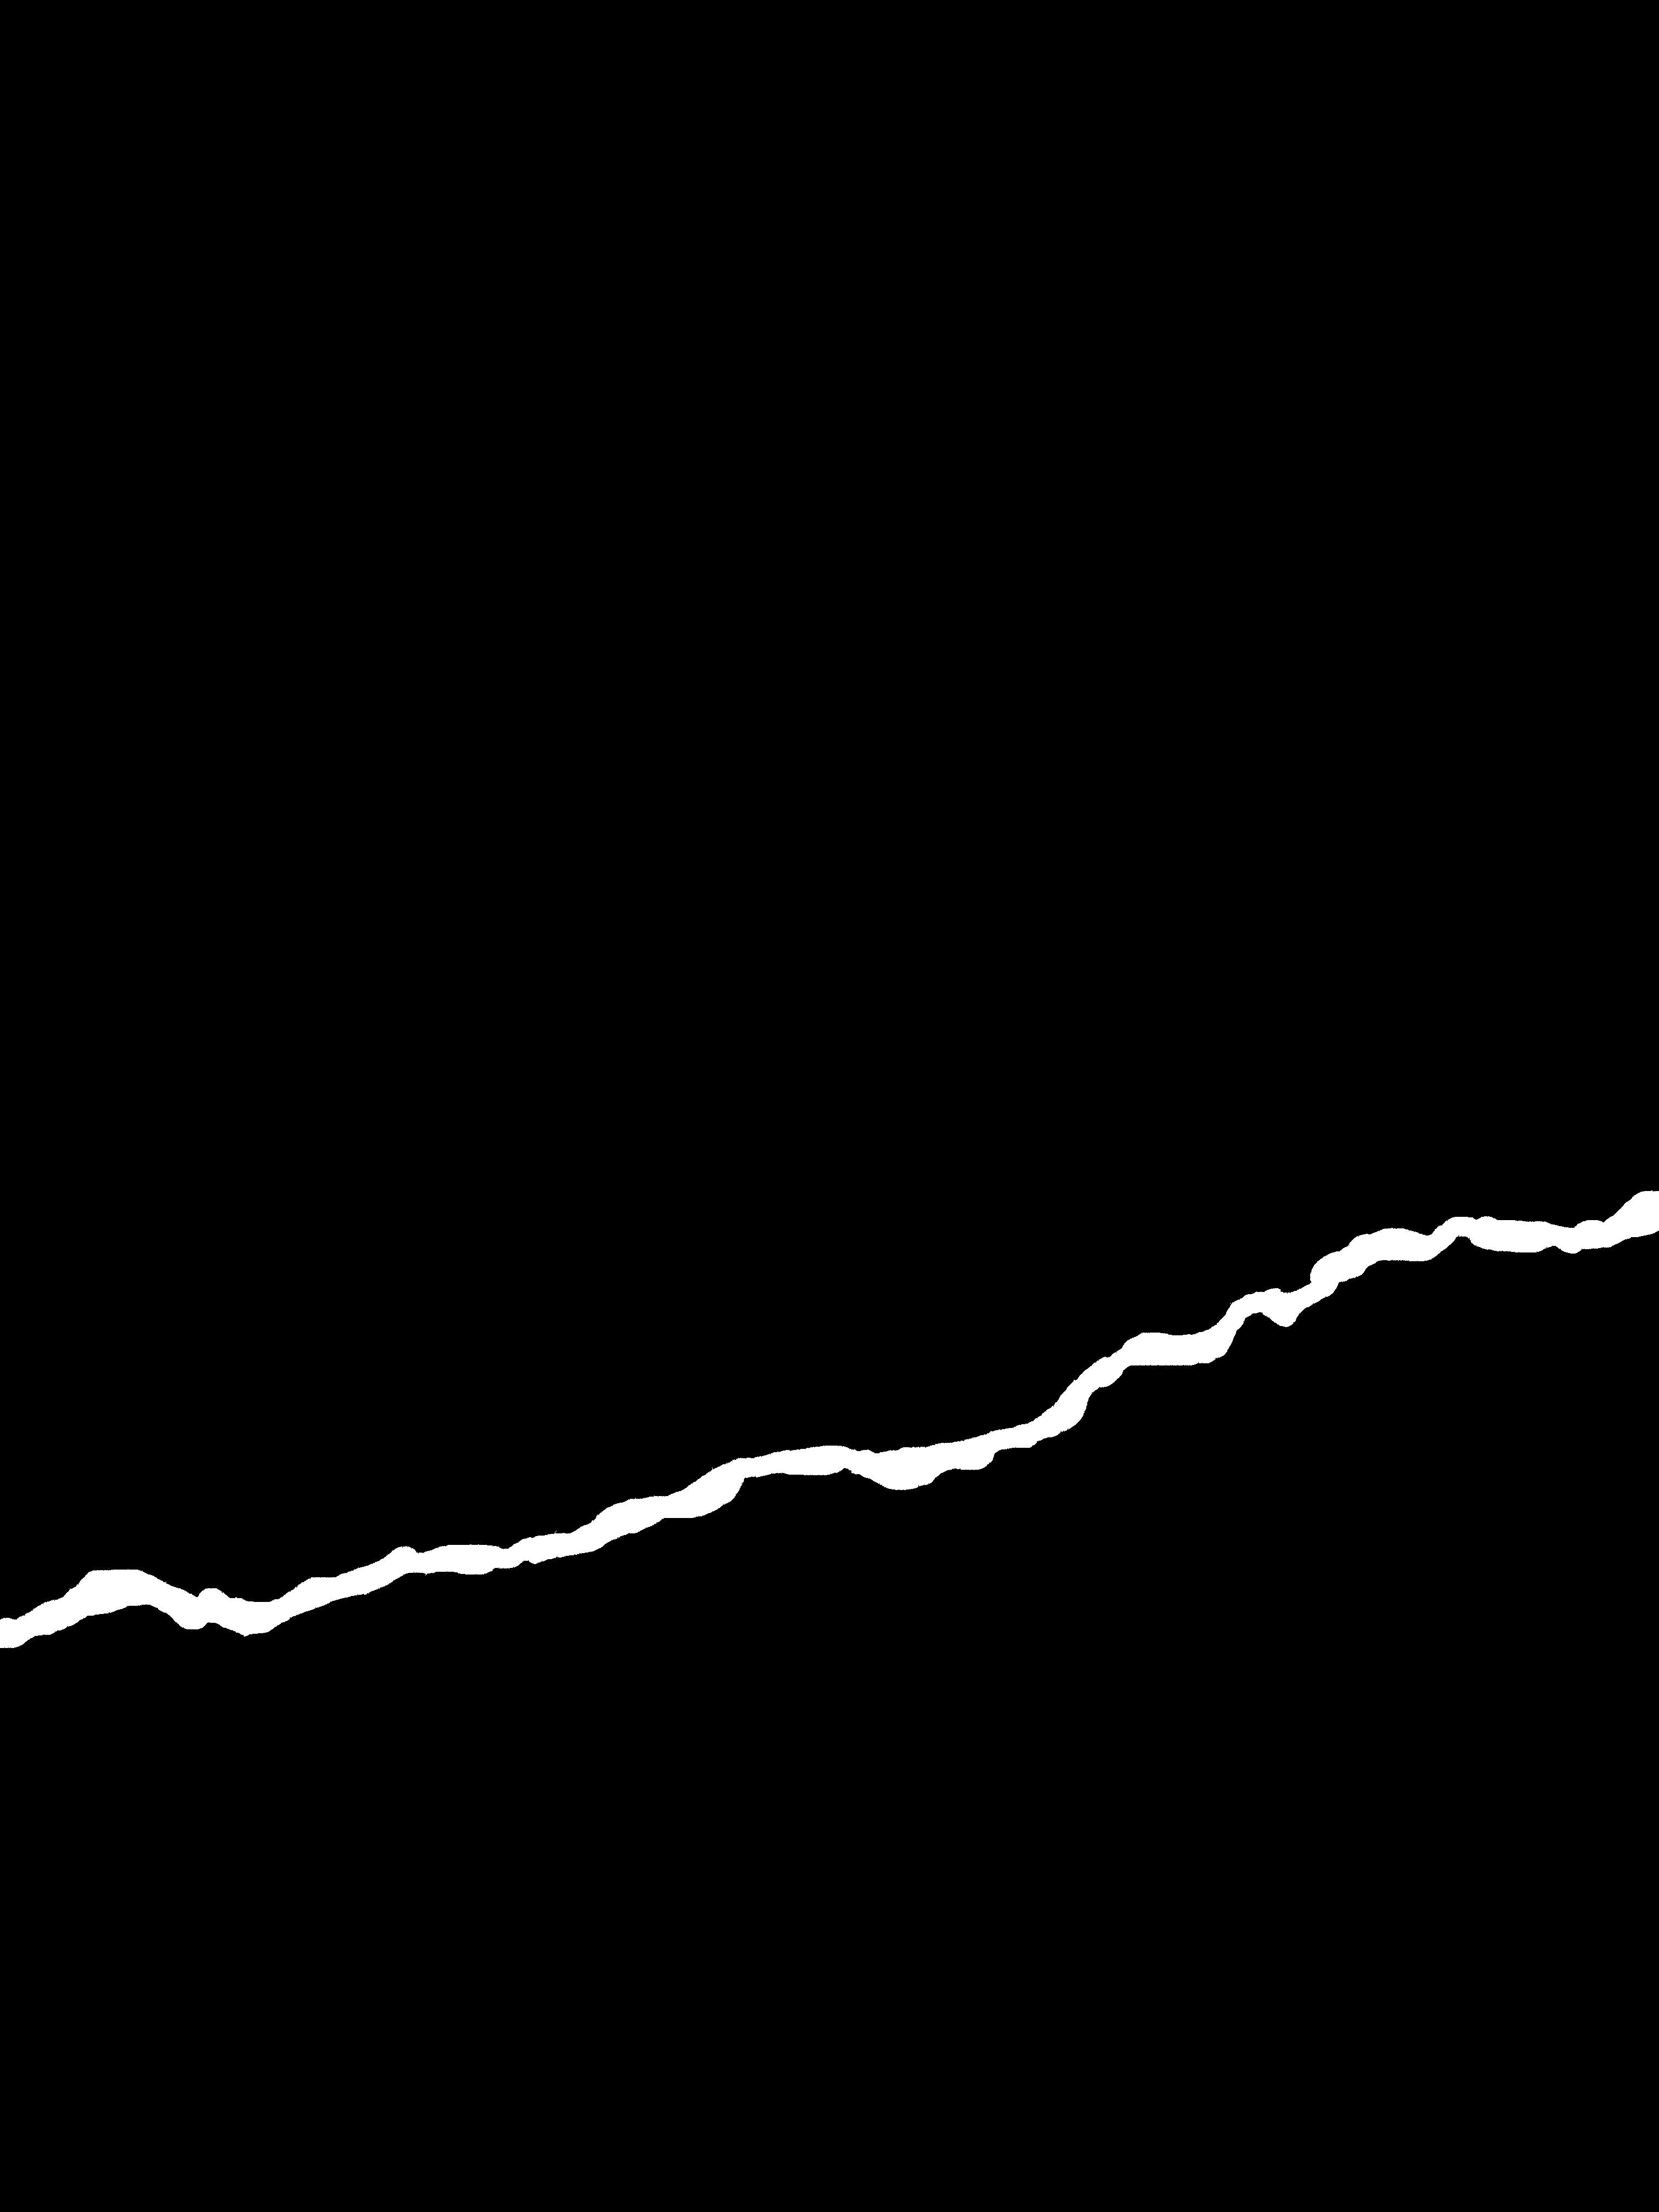Crack: (0, 1162, 1659, 1677)
